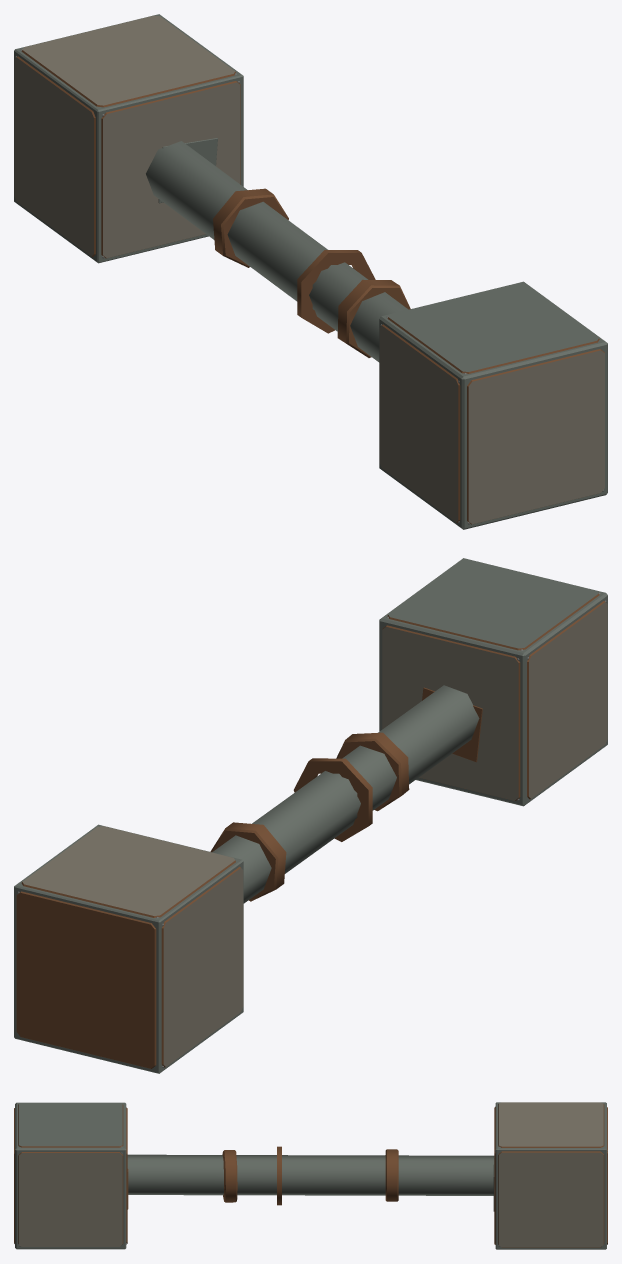
File: R4C_STRUT_LONG.fbx
The picture shows the model from 3 angles, top to bottom: view 1: azimuth 30°, elevation 25°; view 2: azimuth 150°, elevation 25°; view 3: azimuth 270°, elevation 25°; orthographic projection. The views are drawn at different scales.
Parts seen in each view (by area): view 1: R4C_STRUT_LONG; view 2: R4C_STRUT_LONG; view 3: R4C_STRUT_LONG.
Boxes of the visible parts, left/top/right/bottom form: R4C_STRUT_LONG: left=14, top=14, right=607, bottom=529; R4C_STRUT_LONG: left=14, top=558, right=607, bottom=1073; R4C_STRUT_LONG: left=14, top=1102, right=607, bottom=1249.
Bounding box in the file's own units: 0.52 × 0.52 × 2.72.
